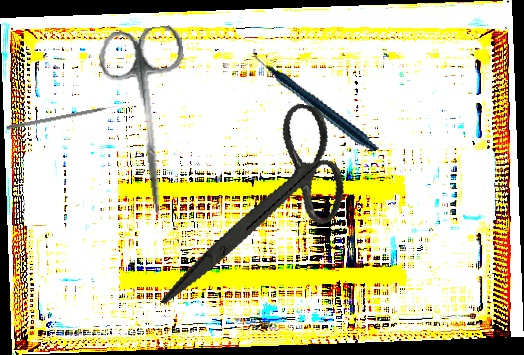Handpiece: (251, 23, 380, 176)
Hook Surgical: (6, 104, 121, 131)
Iris Scissors: (160, 83, 361, 337), (96, 24, 203, 220)
